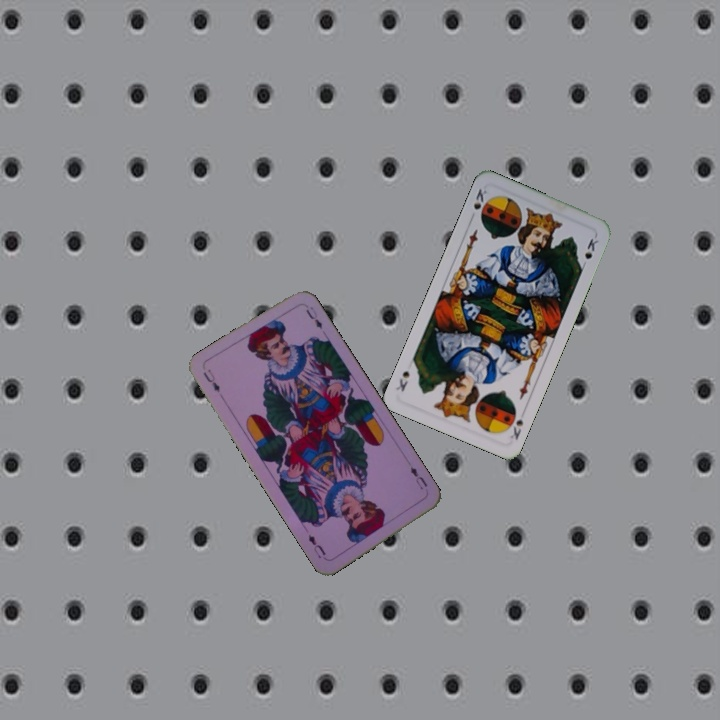EU: (406, 462, 430, 492), (199, 365, 223, 395)
SK: (506, 405, 528, 443), (469, 184, 491, 212)
